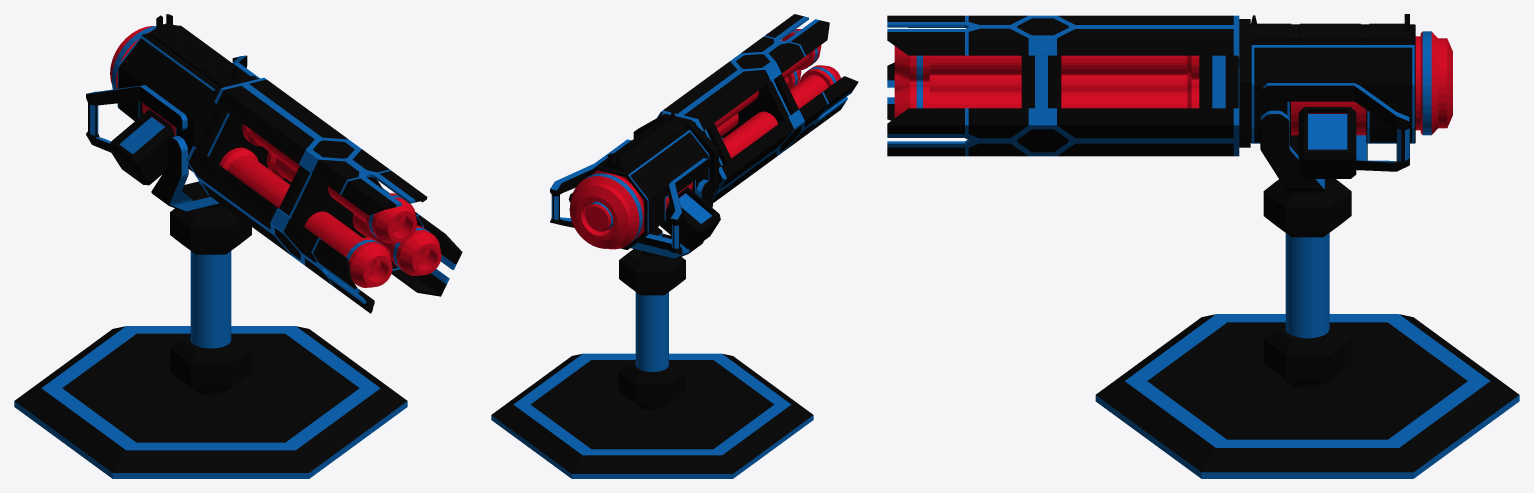
File: Gun.fbx
3 renders of one model, left to right at view 1: azimuth 30°, elevation 25°; view 2: azimuth 150°, elevation 25°; view 3: azimuth 270°, elevation 25°, orthographic. The views are drawn at different scales.
Visible parts, largest first — view 1: Cylinder.002, Cylinder.001, Cylinder.003; view 2: Cylinder.002, Cylinder.001, Cylinder.003; view 3: Cylinder.002, Cylinder.001, Cylinder.003.
Part boxes in pixels (left/top/right/bottom): Cylinder.002: left=14, top=136, right=407, bottom=478; Cylinder.001: left=186, top=77, right=462, bottom=313; Cylinder.003: left=86, top=14, right=259, bottom=185; Cylinder.002: left=491, top=179, right=813, bottom=478; Cylinder.001: left=657, top=14, right=858, bottom=202; Cylinder.003: left=550, top=111, right=720, bottom=254; Cylinder.002: left=1095, top=110, right=1519, bottom=478; Cylinder.001: left=887, top=15, right=1239, bottom=156; Cylinder.003: left=1239, top=14, right=1452, bottom=178.
Size of the model in its own units: 361 by 419 by 622.
